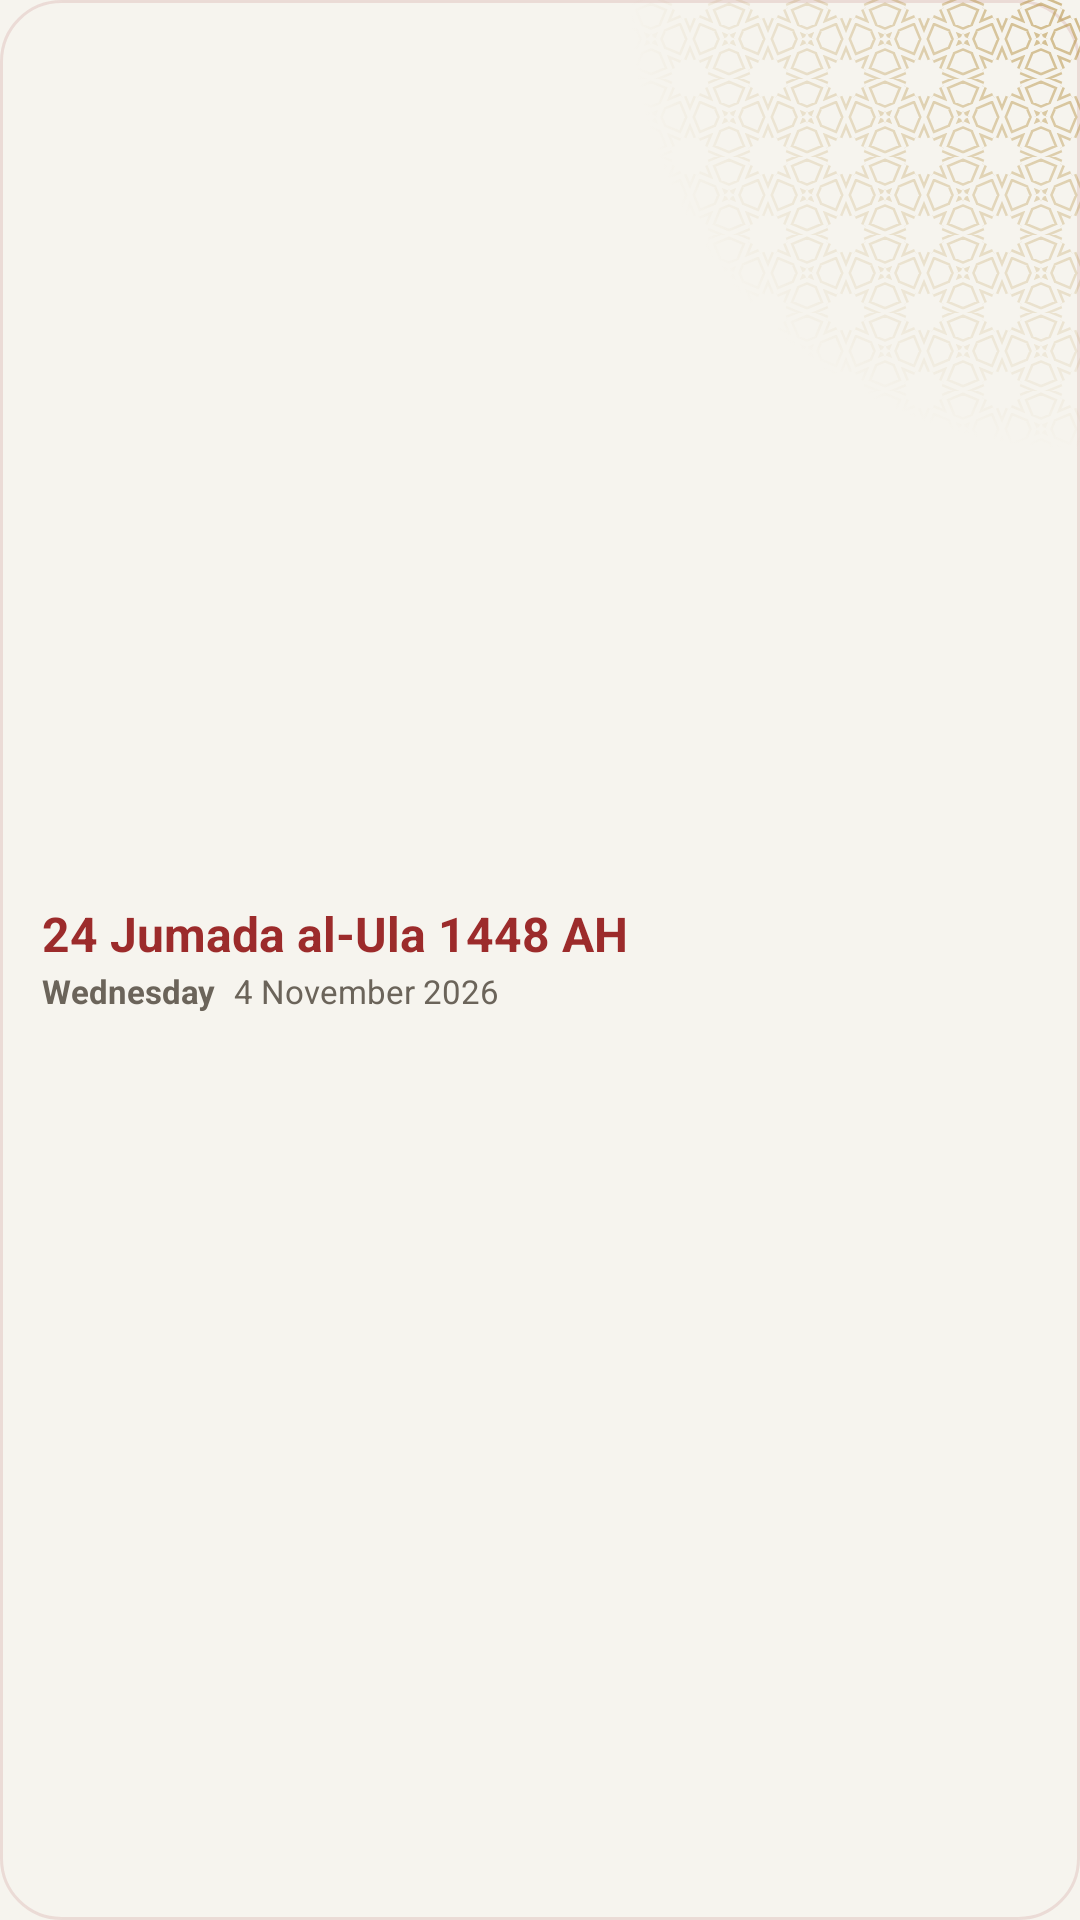

Screen size 1080×1920. Icon name, then its center in pixels as point (x, y):
widget orn band: point (908, 171)
